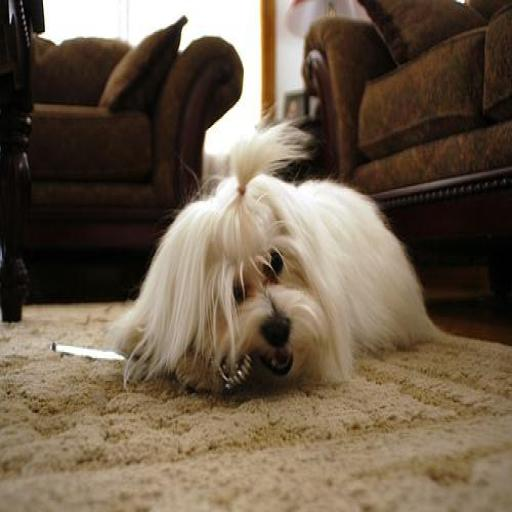dog_face: (151, 148, 351, 402)
